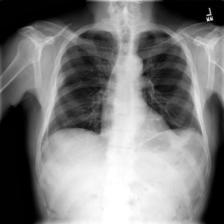normal: (38, 28, 208, 162)
